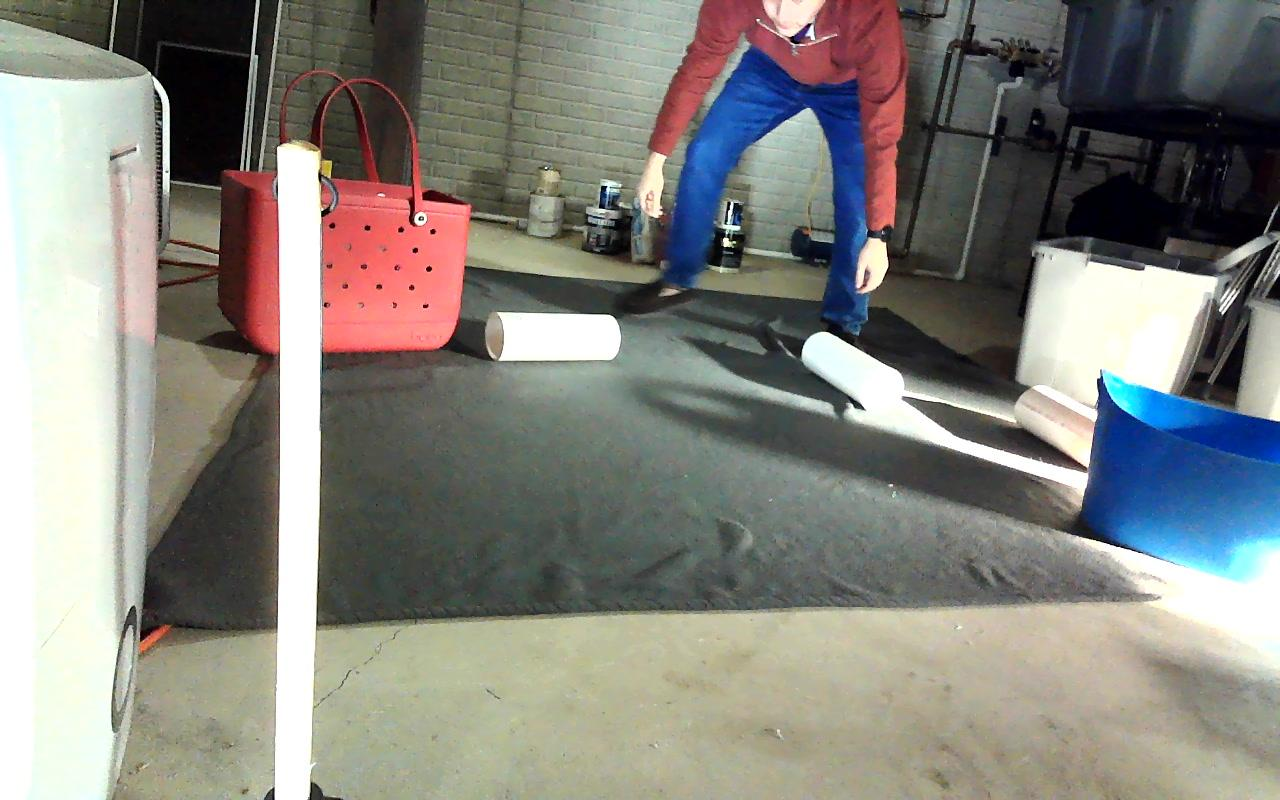coral: (802, 331, 903, 411), (484, 312, 619, 360)
